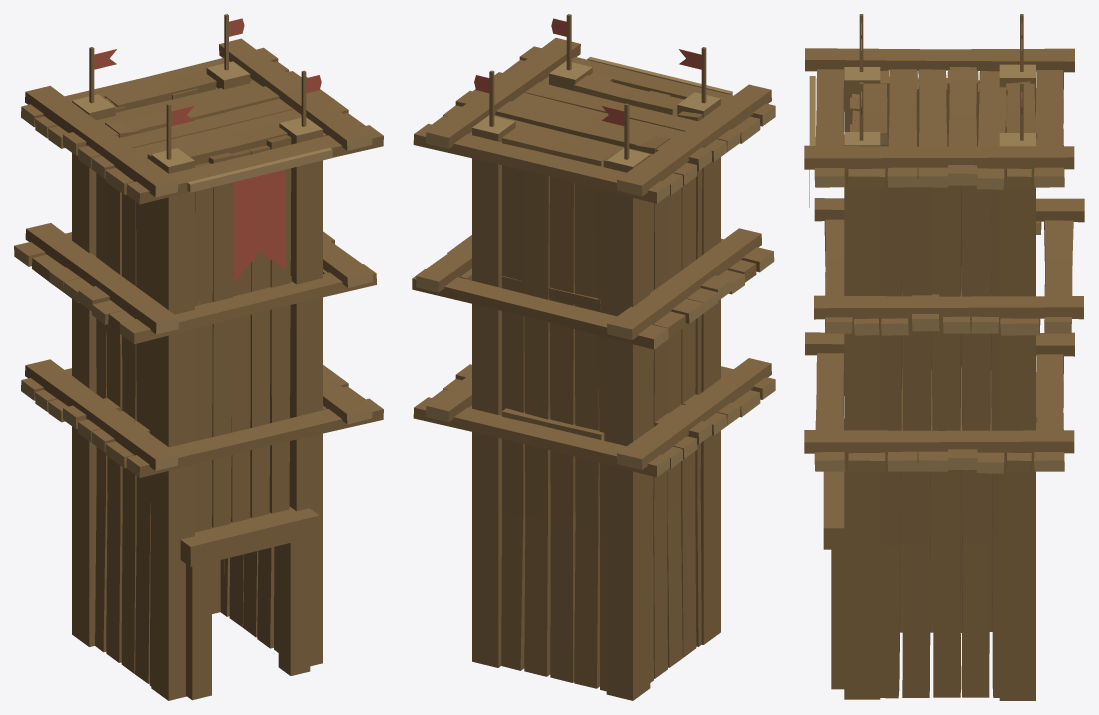
The model's file is WatchTower_FirstAge_Level3.glb.
The picture shows the model from 3 angles, left to right: view 1: azimuth 30°, elevation 25°; view 2: azimuth 150°, elevation 25°; view 3: azimuth 270°, elevation 25°; orthographic projection. The views are drawn at different scales.
Visible parts, largest first — view 1: WatchTower_FirstAge_Level3; view 2: WatchTower_FirstAge_Level3; view 3: WatchTower_FirstAge_Level3.
Part boxes in pixels (box(x1,y1,x2,y2)): WatchTower_FirstAge_Level3: box(14, 14, 383, 700); WatchTower_FirstAge_Level3: box(412, 14, 775, 700); WatchTower_FirstAge_Level3: box(804, 14, 1084, 700).
Size of the model in its own units: 0.7123 by 1.64 by 0.6796.
